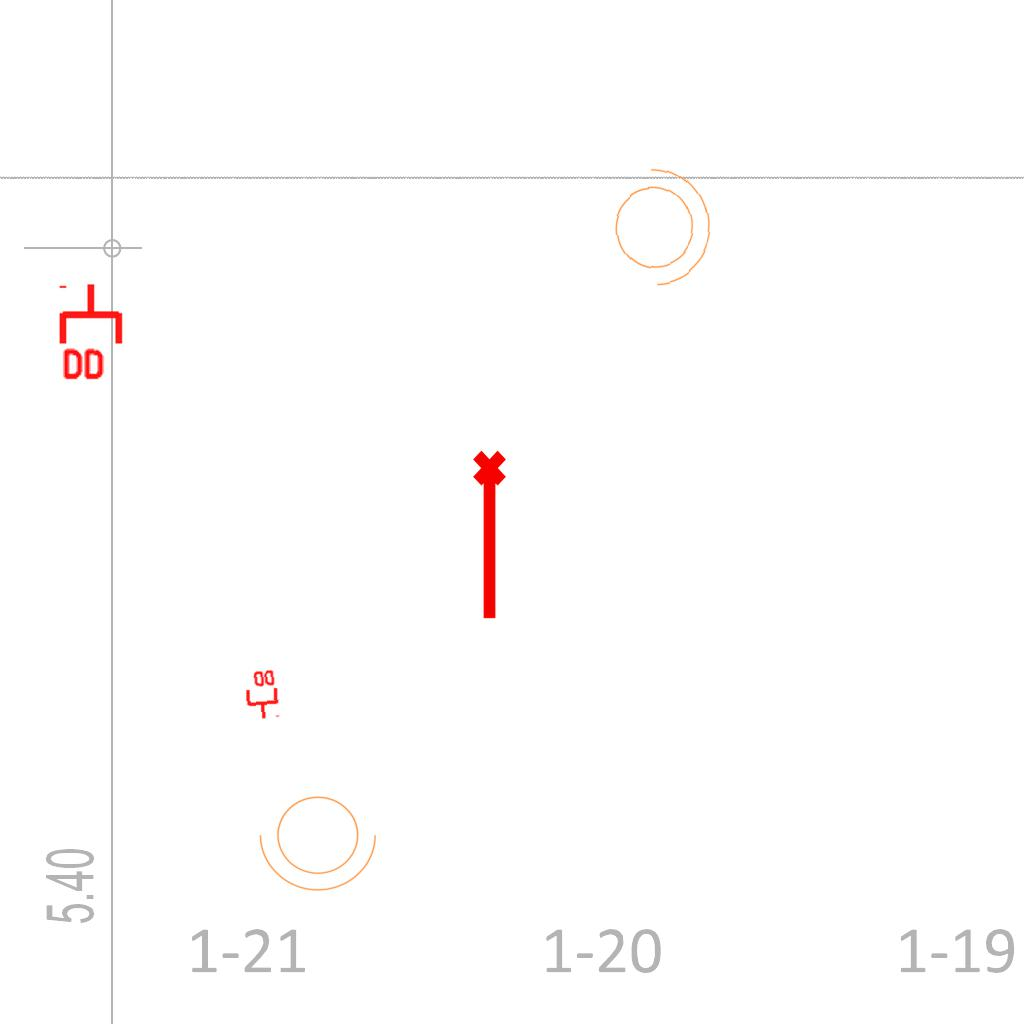ASR_Ansaugoeffnung: (469, 448, 515, 624)
Datenanschluss_zweifach: (58, 281, 127, 384), (241, 667, 281, 722)
Scheinwerfer_fuer_Alarmbeleuchtung: (599, 155, 719, 293), (255, 784, 387, 896)
